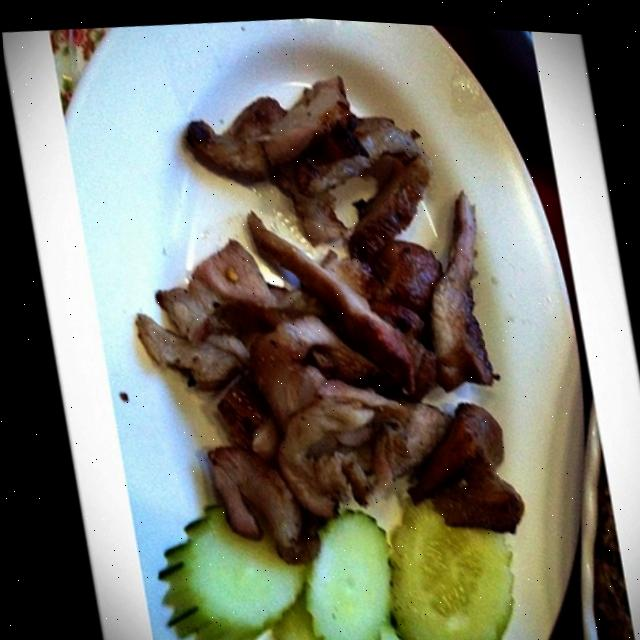猪肉菜式: (93, 18, 603, 640)
